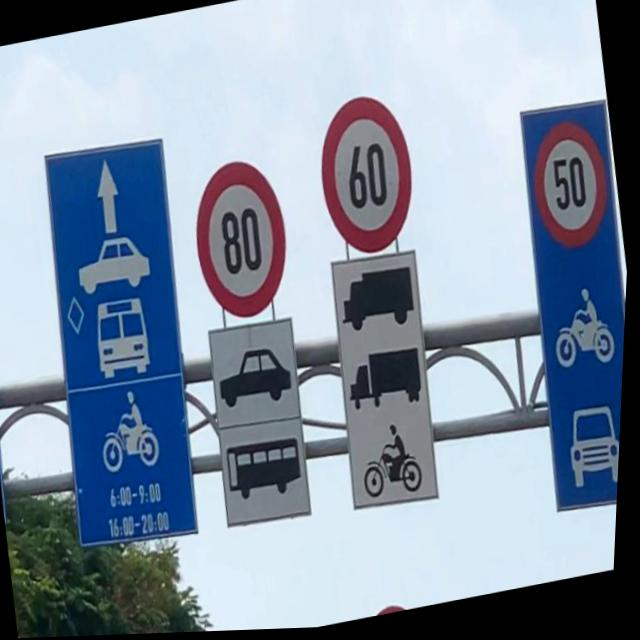Toc do toi da cho phep: (308, 90, 428, 265), (184, 154, 303, 329), (524, 118, 622, 259)
